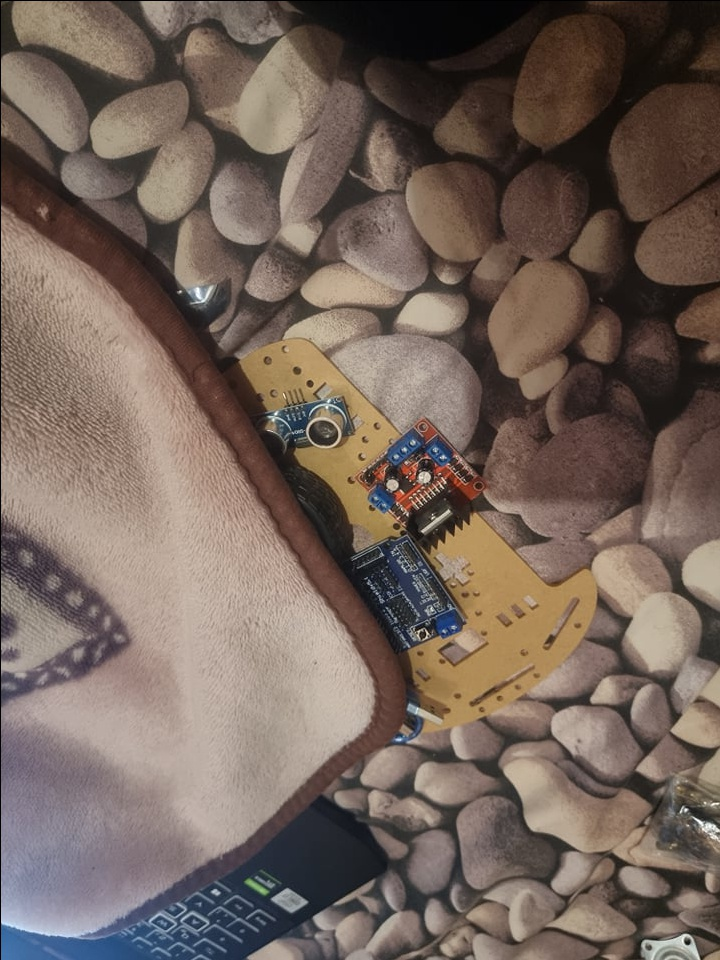5V EXPANSION: (341, 534, 465, 653)
MOTOR: (360, 416, 488, 546)
SENSOR: (260, 395, 347, 455)
